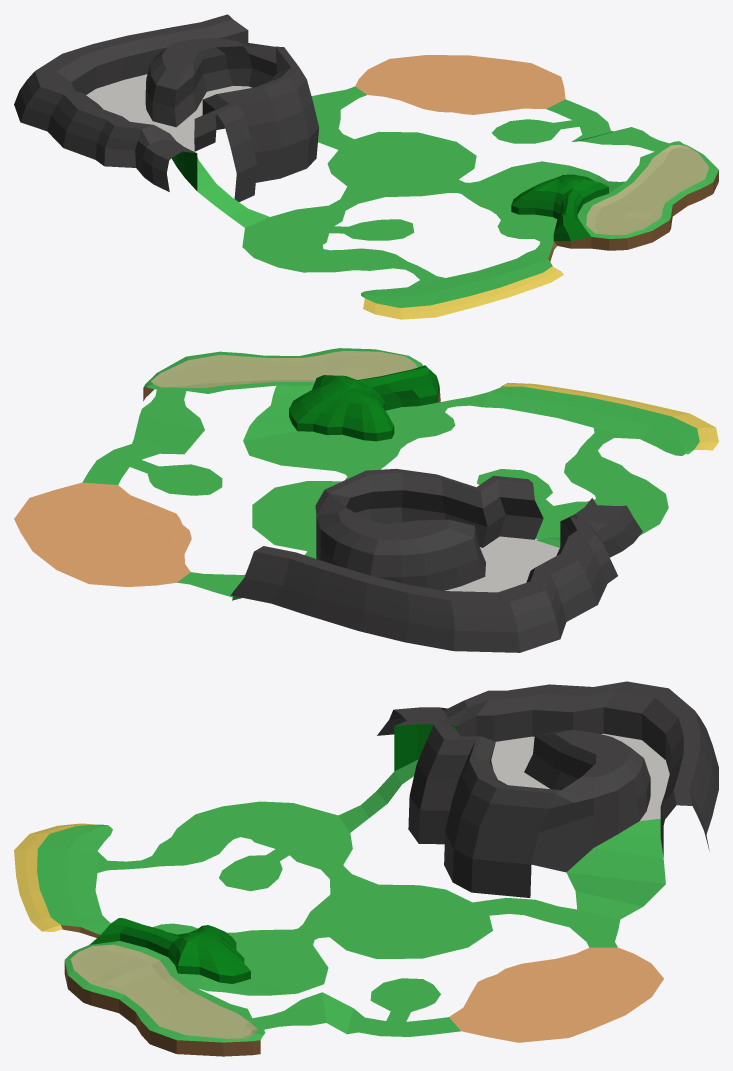
The model's file is island-transformed.glb.
The picture shows the model from 3 angles, top to bottom: view 1: azimuth 30°, elevation 25°; view 2: azimuth 150°, elevation 25°; view 3: azimuth 270°, elevation 25°; orthographic projection. The views are drawn at different scales.
Visible parts, largest first — view 1: Island; view 2: Island; view 3: Island.
Part boxes in pixels (left/top/right/bottom): Island: left=14, top=14, right=718, bottom=319; Island: left=14, top=348, right=718, bottom=652; Island: left=14, top=681, right=718, bottom=1056.
Bounding box in the file's own units: 188 × 29.9 × 189.
1 material, 1 textured.
